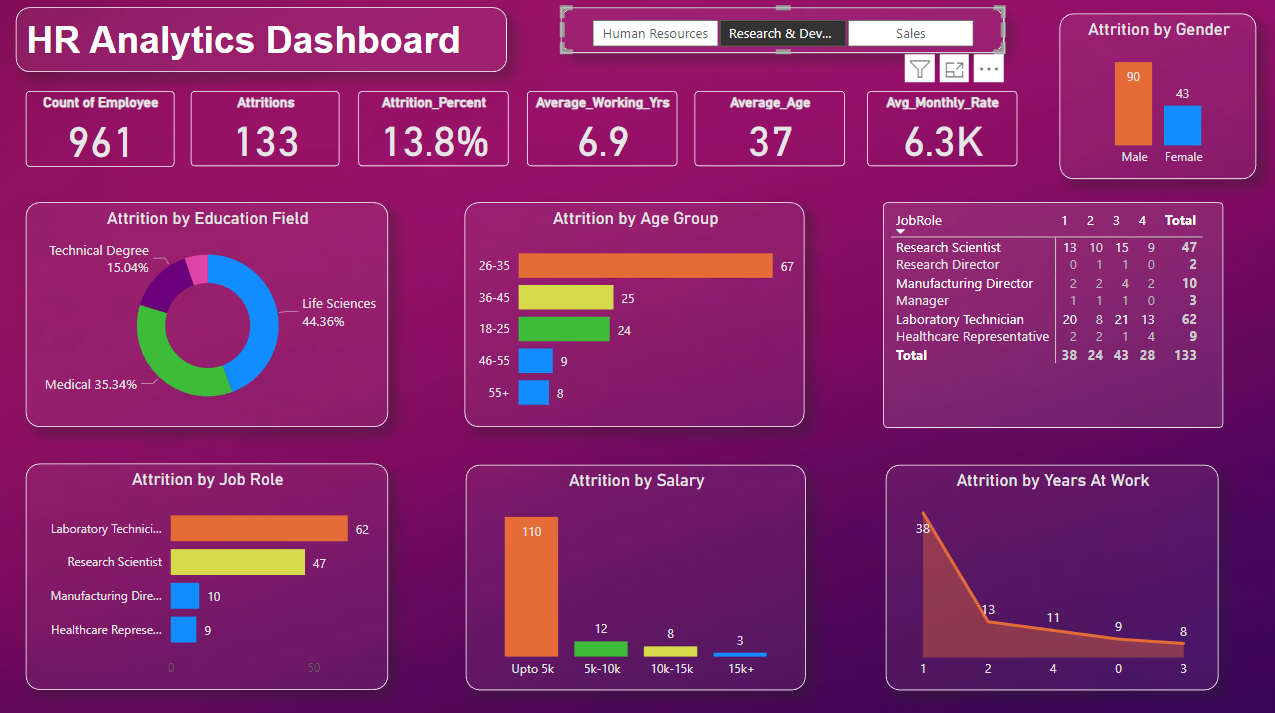

The page's visual inventory and layout, read from the dashboard file:
{"tool":"powerbi","page":{"name":"Page 1","canvas":[1280,720],"ordinal":0},"visuals":[{"type":"card","title":"Average_Working_Yrs","fields":{"Values":["Avg(HR_Analytics_data.YearsAtCompany)"]},"box":[530,95.3,150,75],"z":0},{"type":"card","title":"Count of Employee","fields":{"Values":["CountNonNull(HR_Analytics_data.EmpID)"]},"box":[28.7,95.3,148.8,76.2],"z":1000},{"type":"card","title":"Attrition_Percent","fields":{"Values":["HR_Analytics_data.AttritionRate"]},"box":[361.2,95.3,150,75],"z":2000},{"type":"card","title":"Attritions","fields":{"Values":["Sum(HR_Analytics_data.Attrition_count)"]},"box":[193.7,95.3,148.8,75],"z":3000},{"type":"card","title":"Average_Age","fields":{"Values":["Avg(HR_Analytics_data.Age)"]},"box":[697.5,95.3,150,75],"z":4000},{"type":"card","title":"Avg_Monthly_Rate","fields":{"Values":["Avg(HR_Analytics_data.MonthlyIncome)"]},"box":[870,95.3,150,75],"z":5000},{"type":"donutChart","title":"Attrition by Education Field","fields":{"Category":["HR_Analytics_data.EducationField"],"Y":["Sum(HR_Analytics_data.Attrition_count)"]},"box":[35.7,205.7,355.7,225.7],"z":6000},{"type":"clusteredBarChart","title":"Attrition by Age Group ","fields":{"Category":["HR_Analytics_data.AgeGroup"],"Y":["Sum(HR_Analytics_data.Attrition_count)"]},"box":[471.4,205.7,337.1,225.7],"z":7000},{"type":"pivotTable","fields":{"Rows":["HR_Analytics_data.JobRole"],"Columns":["HR_Analytics_data.JobSatisfaction"],"Values":["Sum(HR_Analytics_data.Attrition_count)"]},"box":[885.7,205.7,340,225.7],"z":8000},{"type":"columnChart","title":"Attrition by Gender","fields":{"Y":["Sum(HR_Analytics_data.Attrition_count)"],"Category":["HR_Analytics_data.Gender"]},"box":[1062.9,17.1,197.1,165.7],"z":9000},{"type":"columnChart","title":"Attrition by Salary ","fields":{"Y":["Sum(HR_Analytics_data.Attrition_count)"],"Category":["HR_Analytics_data.SalarySlab"]},"box":[468.6,468.6,340,225.7],"z":10000},{"type":"clusteredBarChart","title":"Attrition by Job Role","fields":{"Category":["HR_Analytics_data.JobRole"],"Y":["Sum(HR_Analytics_data.Attrition_count)"]},"box":[18.6,468.6,372.9,225.7],"z":11000},{"type":"areaChart","title":"Attrition by Years At Work ","fields":{"Category":["HR_Analytics_data.YearsAtCompany"],"Y":["Sum(HR_Analytics_data.Attrition_count)"]},"box":[888.6,468.6,332.9,225.7],"z":12000},{"type":"slicer","fields":{"Values":["HR_Analytics_data.Department"]},"box":[564.3,11.4,442.9,45.7],"z":13000},{"type":"textbox","box":[18.6,11.4,442.9,64.3],"z":14000}]}

Visuals, with their boxes in screenshot pixels (x1, y1, x2, y2), scaled from the page's 1280x720 canvas onto the 1275x713 screenshot:
"Average_Working_Yrs" card: [528,94,677,169]
"Count of Employee" card: [29,94,177,170]
"Attrition_Percent" card: [360,94,509,169]
"Attritions" card: [193,94,341,169]
"Average_Age" card: [695,94,844,169]
"Avg_Monthly_Rate" card: [867,94,1016,169]
"Attrition by Education Field" donutChart: [36,204,390,427]
"Attrition by Age Group " clusteredBarChart: [470,204,805,427]
pivotTable - HR_Analytics_data.JobRole x HR_Analytics_data.JobSatisfaction: [882,204,1221,427]
"Attrition by Gender" columnChart: [1059,17,1255,181]
"Attrition by Salary " columnChart: [467,464,805,688]
"Attrition by Job Role" clusteredBarChart: [19,464,390,688]
"Attrition by Years At Work " areaChart: [885,464,1217,688]
slicer - HR_Analytics_data.Department: [562,11,1003,57]
textbox: [19,11,460,75]
